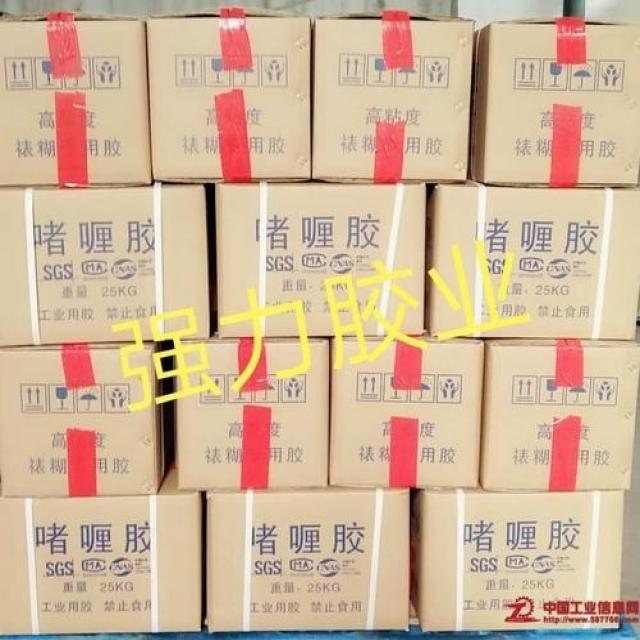box: (0, 452, 202, 635), (425, 179, 640, 340), (0, 187, 210, 346), (215, 182, 425, 338), (411, 489, 625, 631), (207, 486, 410, 633), (146, 5, 312, 182), (466, 18, 639, 187), (312, 9, 476, 184), (0, 12, 151, 190), (0, 341, 166, 495), (175, 336, 330, 491), (328, 336, 485, 489), (480, 338, 639, 489)
